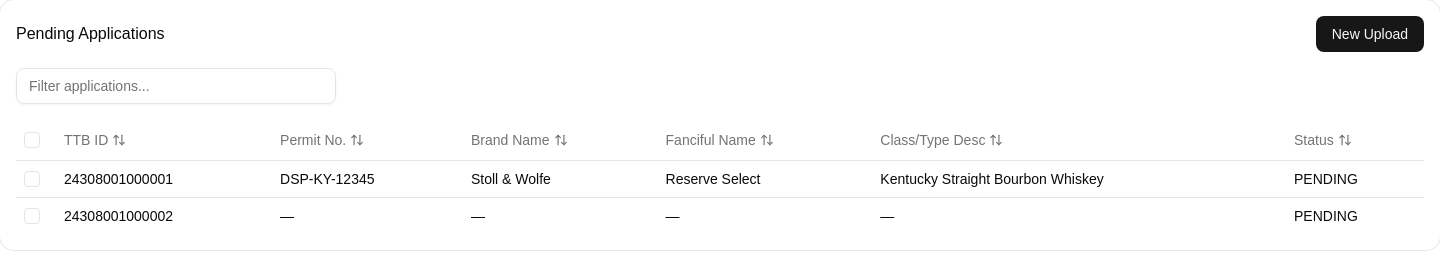
DashboardPage › filters across all columns by any matching value (12.2)
Expected: the text "24308001000001" is shown, x1=56 y1=160 x2=272 y2=197
Expected: the text "24308001000002" is shown, x1=56 y1=197 x2=272 y2=234
In the field with placeholder "Filter applications...": (176, 86) x1=16 y1=68 x2=336 y2=104, type "Stoll"
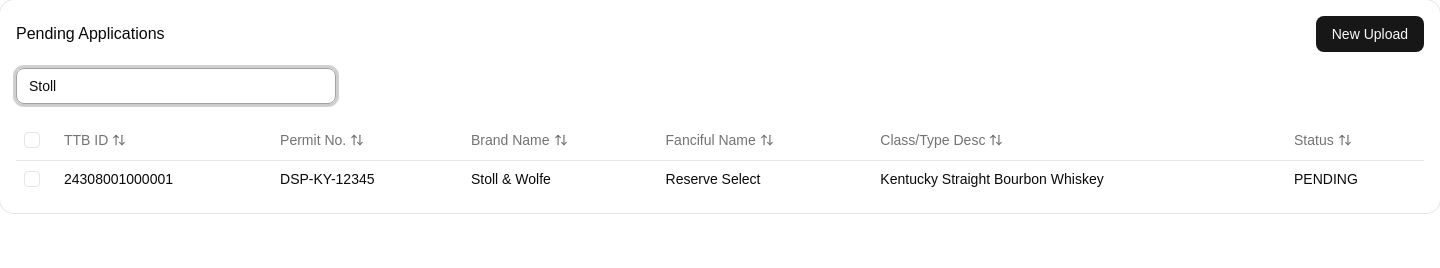
Expected: the text "24308001000001" is shown, x1=56 y1=160 x2=272 y2=196
Result: the text "24308001000002" is gone
